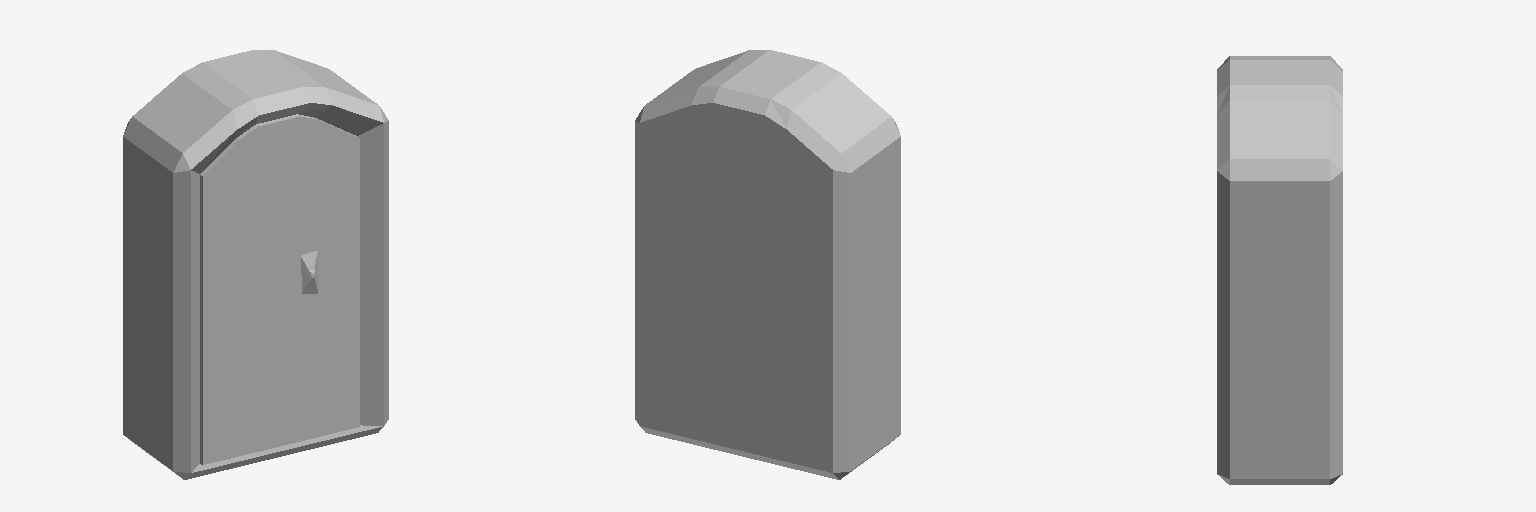
The model's file is door.obj.
3 views of the same model, side by side, from view 1: azimuth 30°, elevation 25°; view 2: azimuth 150°, elevation 25°; view 3: azimuth 270°, elevation 25° (orthographic).
Parts seen in each view (by area): view 1: Cube_Cube.002; view 2: Cube_Cube.002; view 3: Cube_Cube.002.
Boxes of the visible parts, <box> form: Cube_Cube.002: <box>123,50,388,479</box>; Cube_Cube.002: <box>635,50,900,479</box>; Cube_Cube.002: <box>1217,56,1342,484</box>.
Bounding box in the file's own units: 0.589 × 0.9503 × 0.2985.